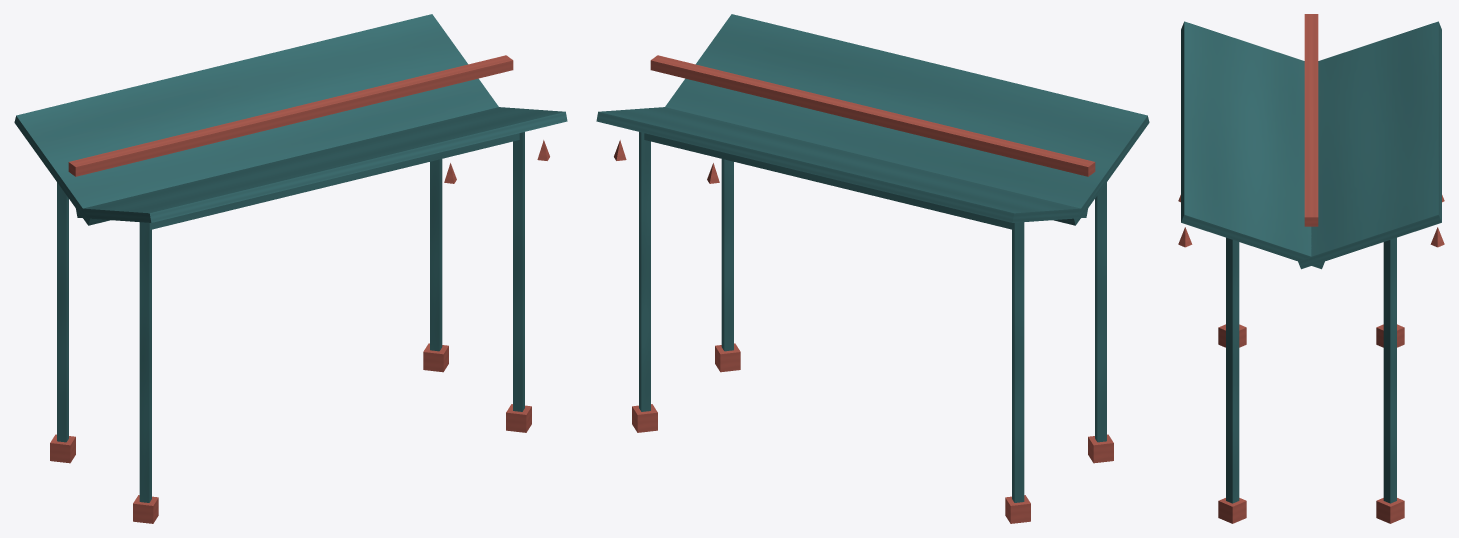
Rendered from atlas100-s031-a08.lod2.glb.
The picture shows the model from 3 angles, left to right: view 1: azimuth 30°, elevation 25°; view 2: azimuth 150°, elevation 25°; view 3: azimuth 270°, elevation 25°; orthographic projection. The views are drawn at different scales.
Visible parts, largest first — view 1: atlas100-s031-a08:part-010, atlas100-s031-a08:part-011, atlas100-s031-a08:part-022, atlas100-s031-a08:part-002, atlas100-s031-a08:part-006, atlas100-s031-a08:part-000, atlas100-s031-a08:part-009, atlas100-s031-a08:part-004; view 2: atlas100-s031-a08:part-011, atlas100-s031-a08:part-010, atlas100-s031-a08:part-022, atlas100-s031-a08:part-000, atlas100-s031-a08:part-004, atlas100-s031-a08:part-002, atlas100-s031-a08:part-008, atlas100-s031-a08:part-006; view 3: atlas100-s031-a08:part-010, atlas100-s031-a08:part-011, atlas100-s031-a08:part-004, atlas100-s031-a08:part-006, atlas100-s031-a08:part-022, atlas100-s031-a08:part-005, atlas100-s031-a08:part-007, atlas100-s031-a08:part-001, atlas100-s031-a08:part-003.
Part boxes in pixels (box(x1,y1,x2,y2)): atlas100-s031-a08:part-010: box(14, 14, 498, 225); atlas100-s031-a08:part-011: box(76, 107, 567, 222); atlas100-s031-a08:part-022: box(68, 55, 513, 176); atlas100-s031-a08:part-002: box(139, 222, 151, 502); atlas100-s031-a08:part-006: box(513, 132, 524, 411); atlas100-s031-a08:part-000: box(57, 182, 68, 442); atlas100-s031-a08:part-009: box(150, 133, 519, 229); atlas100-s031-a08:part-004: box(430, 159, 442, 351); atlas100-s031-a08:part-011: box(665, 14, 1149, 225); atlas100-s031-a08:part-010: box(596, 107, 1087, 222); atlas100-s031-a08:part-022: box(650, 55, 1095, 176); atlas100-s031-a08:part-000: box(1012, 222, 1024, 502); atlas100-s031-a08:part-004: box(639, 132, 650, 411); atlas100-s031-a08:part-002: box(1095, 182, 1106, 442); atlas100-s031-a08:part-008: box(644, 133, 1013, 229); atlas100-s031-a08:part-006: box(721, 159, 733, 351); atlas100-s031-a08:part-010: box(1298, 21, 1441, 269); atlas100-s031-a08:part-011: box(1181, 21, 1324, 269); atlas100-s031-a08:part-004: box(1383, 237, 1396, 503); atlas100-s031-a08:part-006: box(1226, 237, 1239, 503); atlas100-s031-a08:part-022: box(1304, 14, 1318, 226); atlas100-s031-a08:part-005: box(1376, 498, 1404, 523); atlas100-s031-a08:part-007: box(1218, 498, 1246, 523); atlas100-s031-a08:part-001: box(1376, 324, 1404, 347); atlas100-s031-a08:part-003: box(1218, 324, 1246, 347).
Size of the model in its own units: 6.1 by 4.41 by 3.38.
2 materials, 2 textured.
